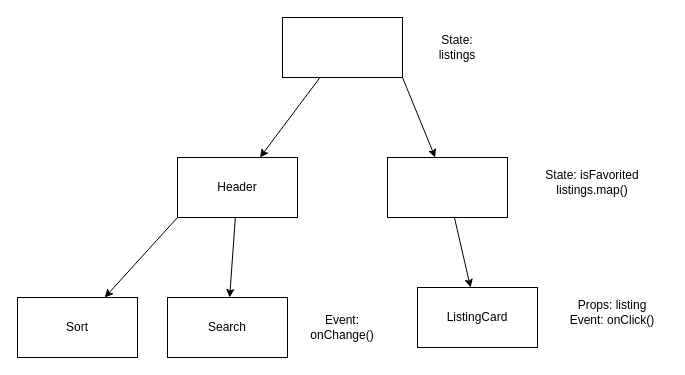
Image size: 685x375. Some labels were removed from this diagram. Each missing label, with the centre of its shape:
App: point 342,47
ListingsContainer: point 447,187
